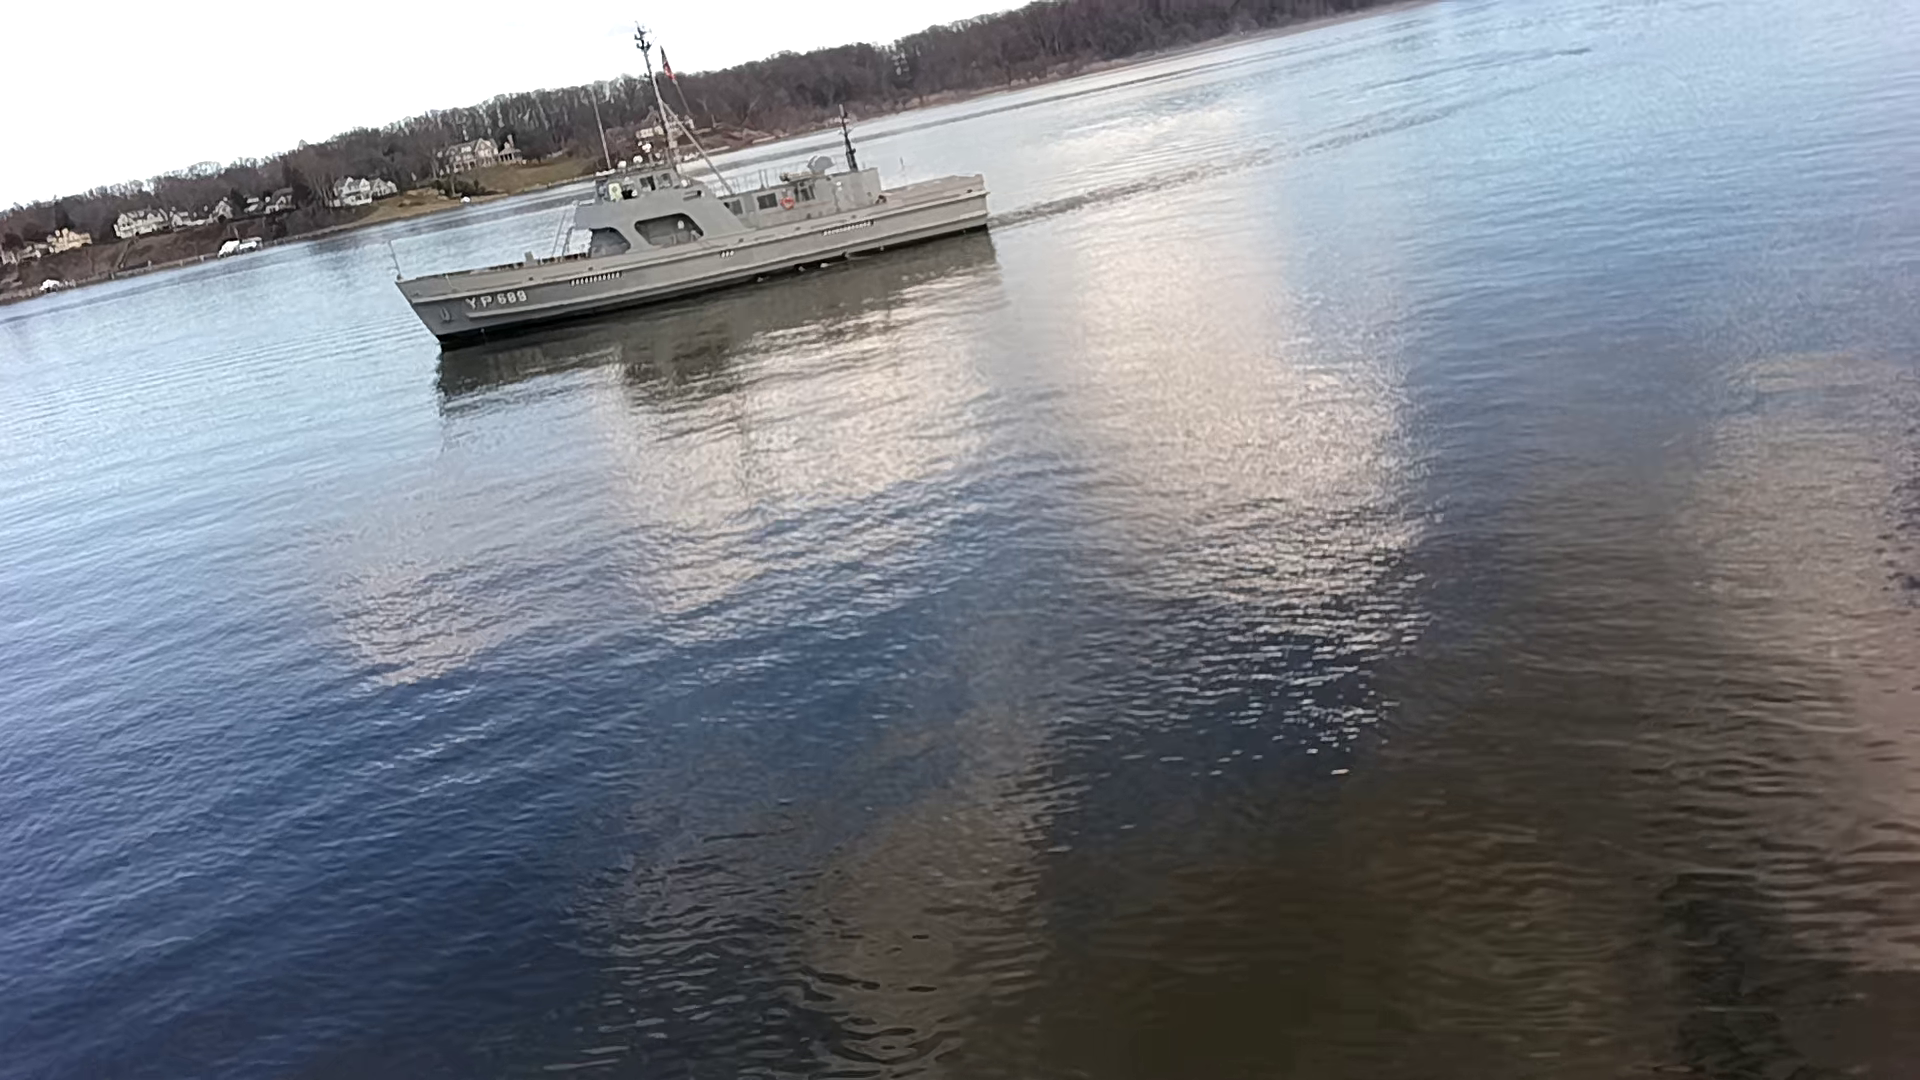YP689: (396, 25, 994, 349)
